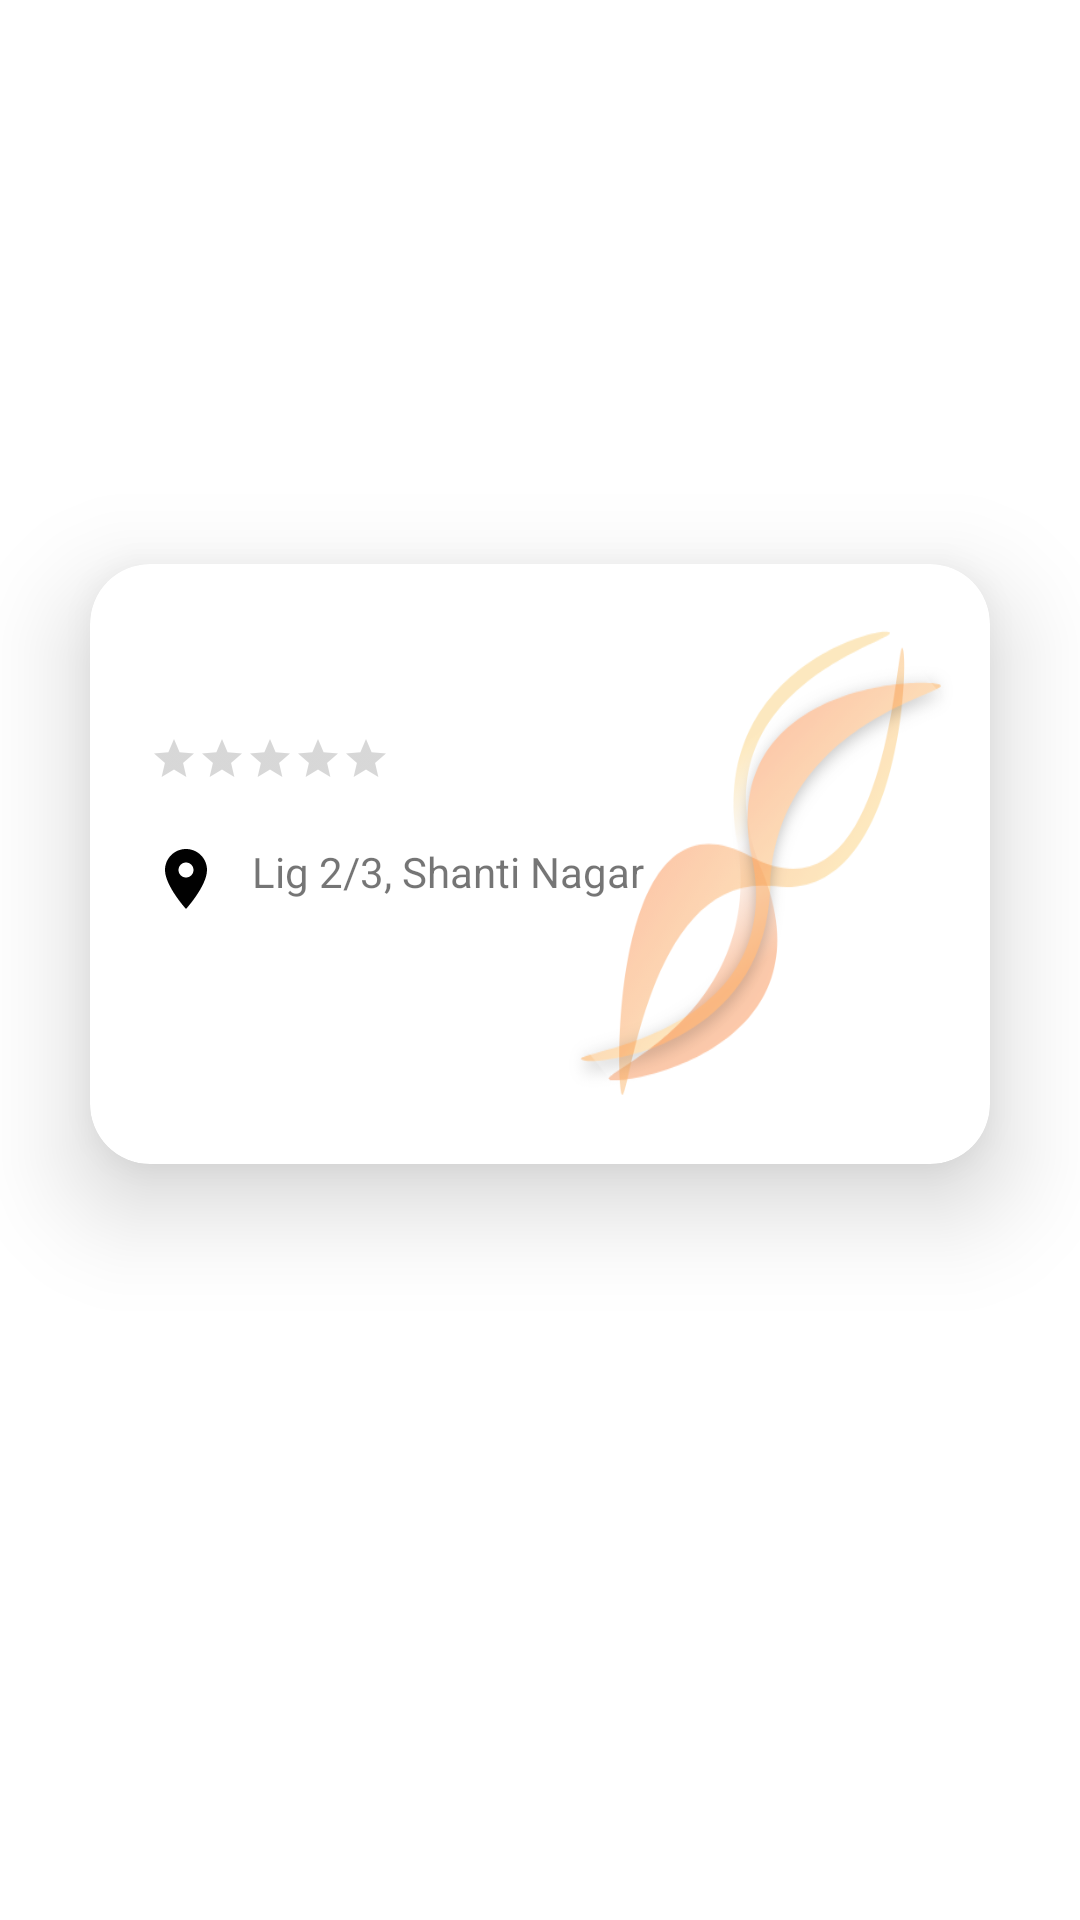

Icons on this 1080 × 1920 Android screen, each with its box as (x1, y1, x2, y2):
location Icon: (165, 849, 207, 909)
